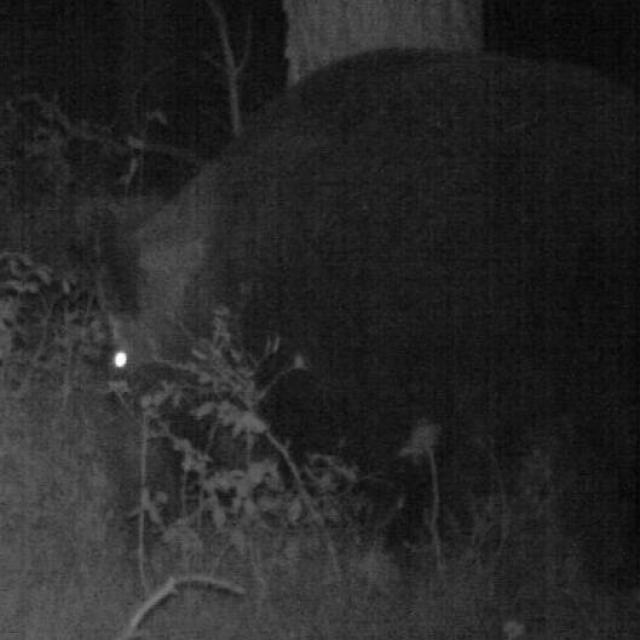pig: (61, 36, 640, 592)
